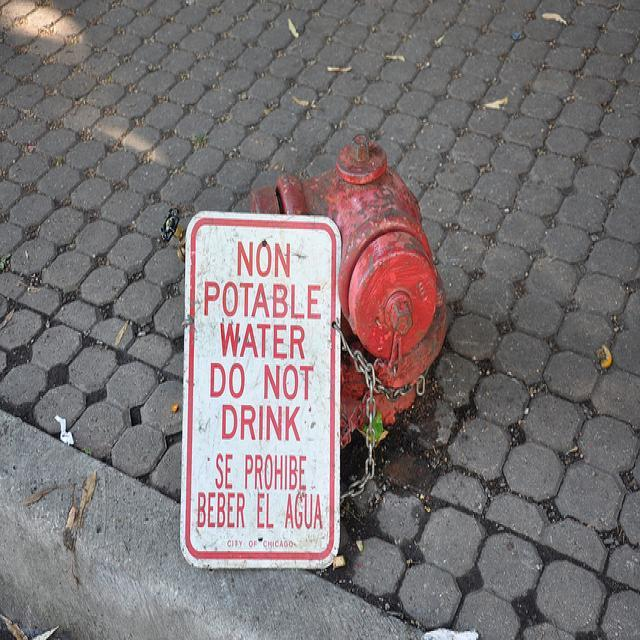fire_hydrant: (241, 111, 449, 456)
